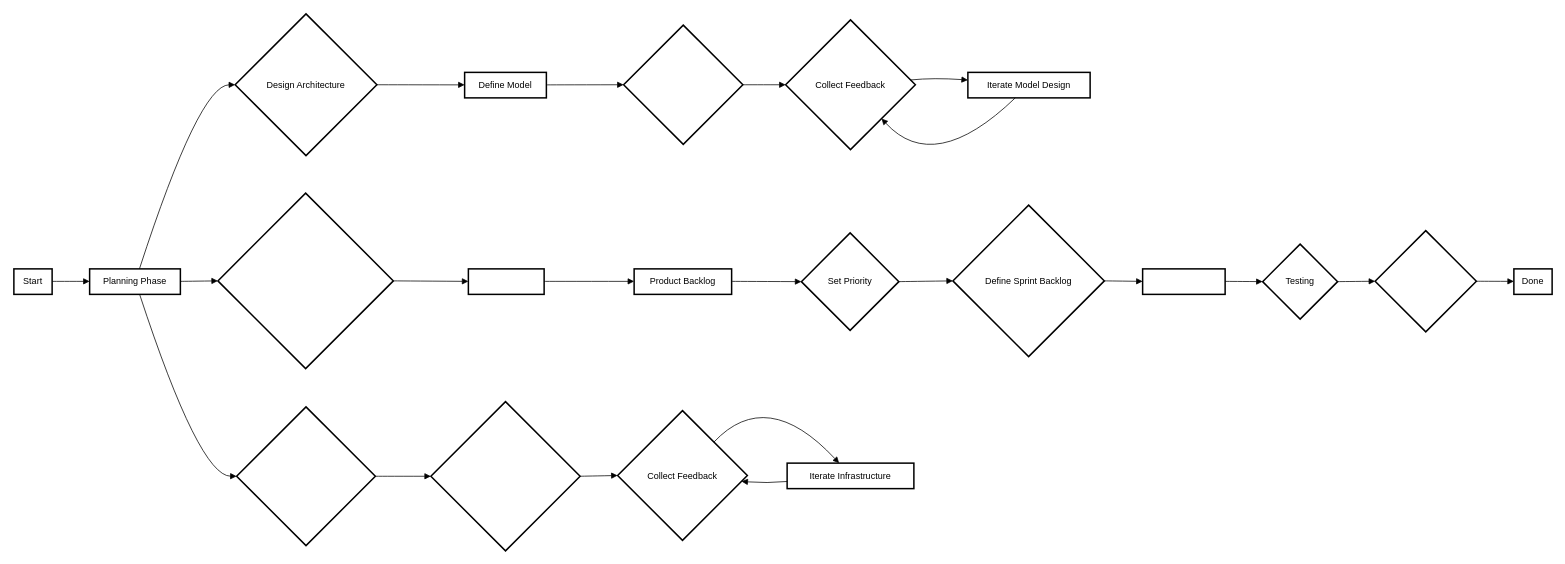
The diagram is 1565 pixels wide and 564 high, and some of its shapes have lost their labels. Each missing label, with the centre of its shape:
"Choose Technology" goes at (x=306, y=476).
"Deployment" goes at (x=1425, y=281).
"Development" goes at (x=1184, y=281).
"Represent Data" goes at (x=682, y=84).
"Set up Infrastructure" goes at (x=505, y=475).
"Understand Requirements" goes at (x=305, y=280).
"User Stories" goes at (x=505, y=281).
